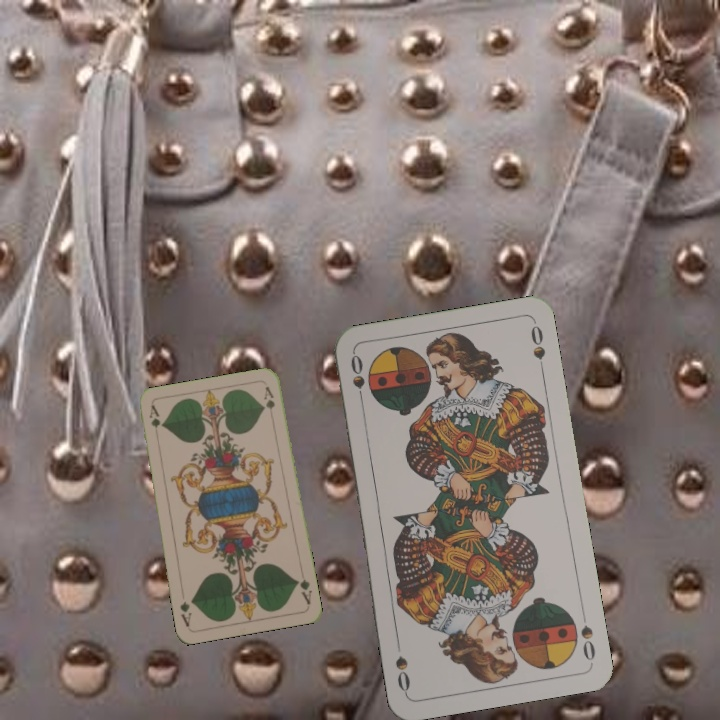GA: (292, 575, 314, 607), (145, 402, 162, 442)
SO: (346, 350, 367, 409), (576, 621, 598, 663)
